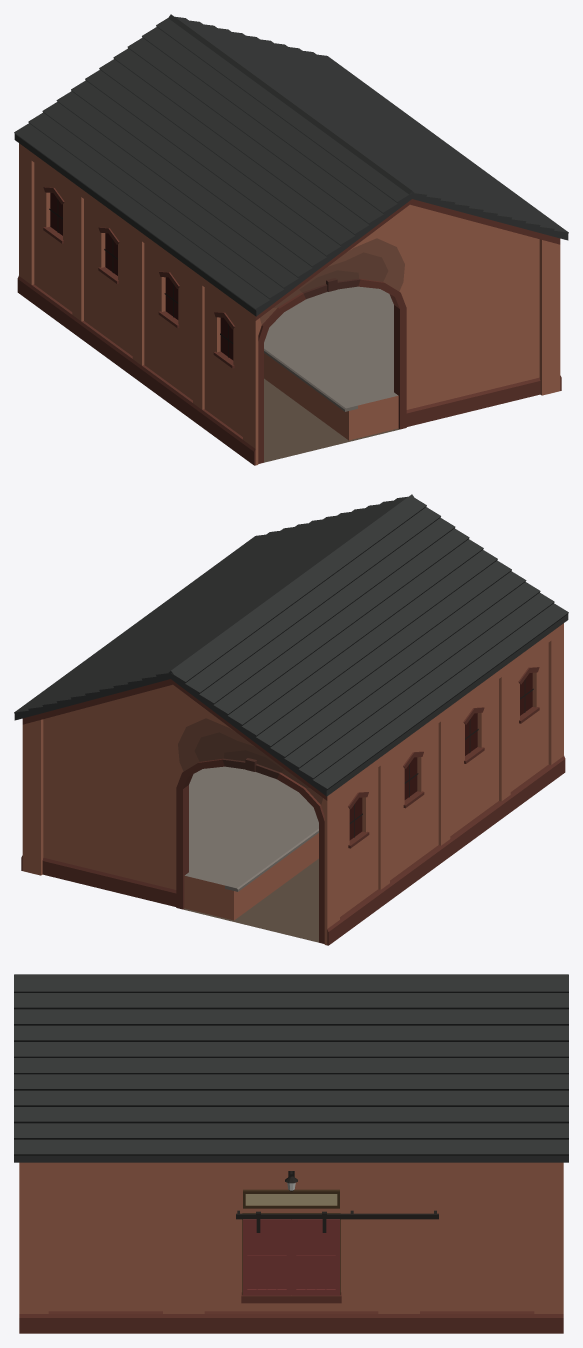
Rendered from goods-shed-206be9.glb.
3 renders of one model, top to bottom at view 1: azimuth 30°, elevation 25°; view 2: azimuth 150°, elevation 25°; view 3: azimuth 270°, elevation 25°, orthographic. The views are drawn at different scales.
Parts seen in each view (by area): view 1: shed; view 2: shed; view 3: shed, loading-door-leaf.
Part boxes in pixels (<box>): shed: <box>14,14,568,465</box>; shed: <box>14,494,568,945</box>; shed: <box>14,974,568,1333</box>; loading-door-leaf: <box>243,1211,339,1295</box>.
Bounding box in the file's own units: 12 × 8.73 × 16.
